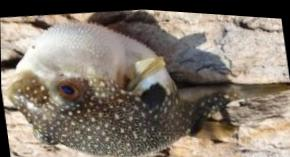fish: (9, 23, 290, 155)
